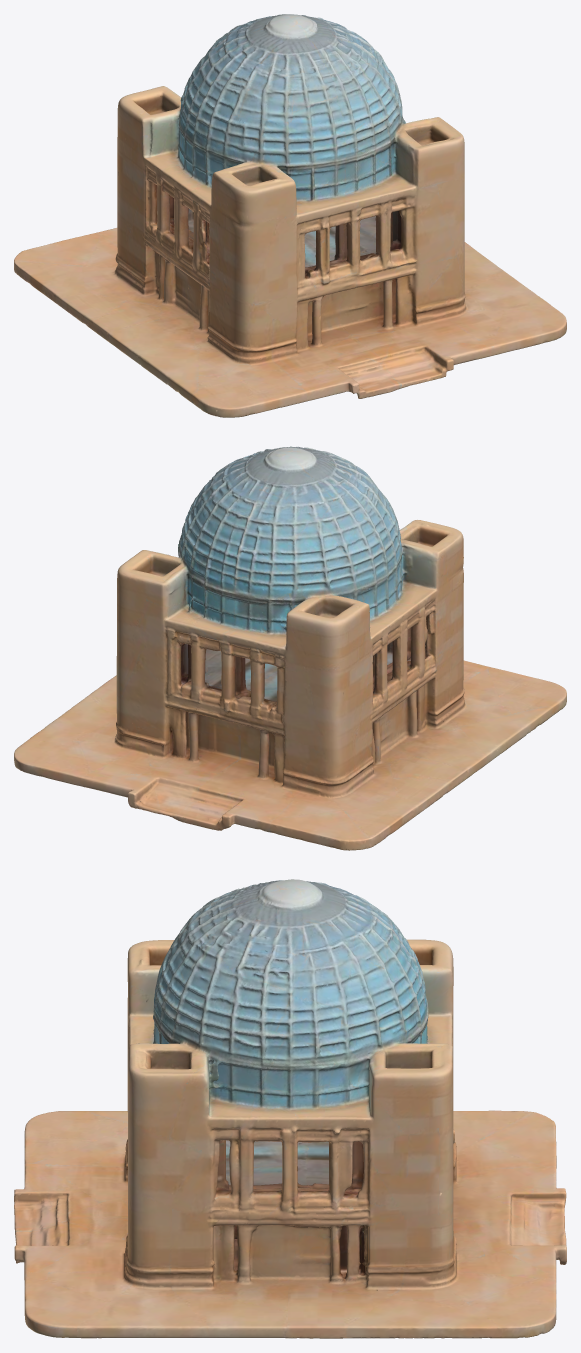
Rendered from skynoe01.glb.
3 views of the same model, one above another, from view 1: azimuth 30°, elevation 25°; view 2: azimuth 150°, elevation 25°; view 3: azimuth 270°, elevation 25° (orthographic). The views are drawn at different scales.
Bounding box in the file's own units: 1.86 × 1.41 × 2.
Materials: 1 (1 with a texture image).
